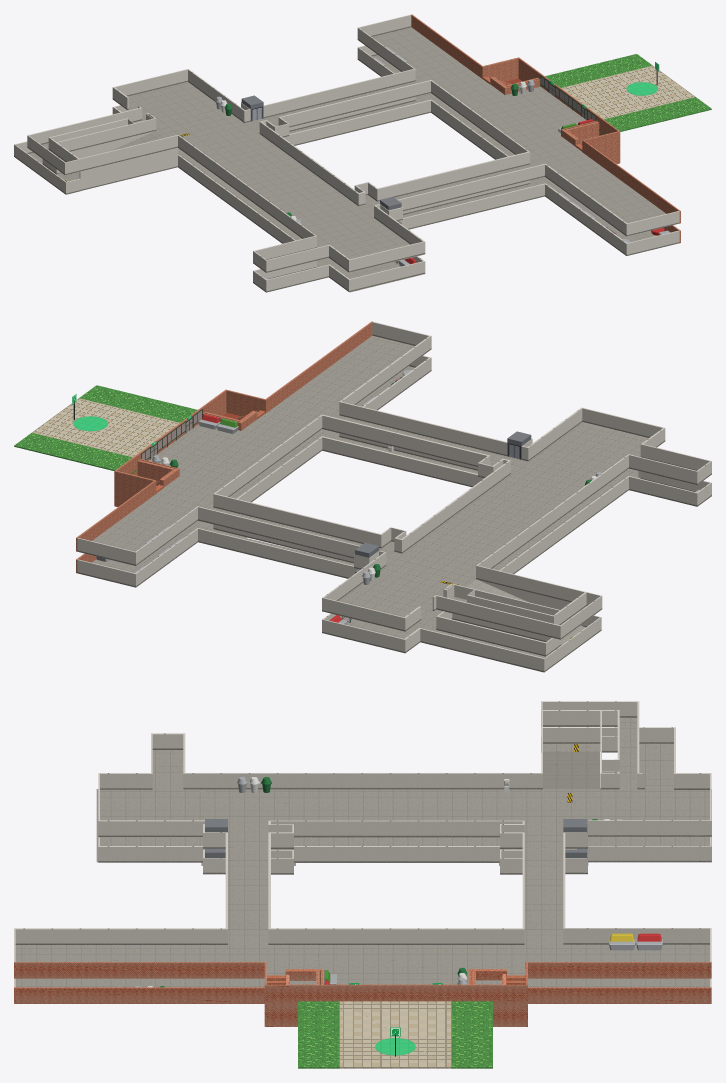
File: labs-uao.glb
The picture shows the model from 3 angles, top to bottom: view 1: azimuth 30°, elevation 25°; view 2: azimuth 150°, elevation 25°; view 3: azimuth 270°, elevation 25°; orthographic projection. The views are drawn at different scales.
Parts seen in each view (by area): view 1: pared-blanca, terrazo, ladrillo, plaza, pasto, mueble-gray, ascensor-cabina, vidrio; view 2: pared-blanca, terrazo, ladrillo, plaza, pasto, mueble-gray, ascensor-cabina; view 3: terrazo, pared-blanca, ladrillo, plaza, pasto, ascensor-cabina, mueble-gray.
Boxes of the visible parts, <box> form: pared-blanca: <box>14,14,679,292</box>; terrazo: <box>28,27,665,292</box>; ladrillo: <box>411,14,680,242</box>; plaza: <box>561,65,695,119</box>; pasto: <box>545,54,711,134</box>; mueble-gray: <box>215,46,670,279</box>; ascensor-cabina: <box>241,95,401,223</box>; vidrio: <box>540,77,595,120</box>; pared-blanca: <box>77,321,711,672</box>; terrazo: <box>92,335,648,657</box>; ladrillo: <box>76,321,372,573</box>; plaza: <box>32,398,179,457</box>; pasto: <box>14,385,197,474</box>; mueble-gray: <box>96,370,699,624</box>; ascensor-cabina: <box>355,431,531,573</box>; terrazo: <box>15,717,711,987</box>; pared-blanca: <box>14,701,711,987</box>; ladrillo: <box>14,962,711,1026</box>; plaza: <box>339,1001,451,1068</box>; pasto: <box>298,1001,492,1068</box>; ascensor-cabina: <box>205,819,586,857</box>; mueble-gray: <box>135,777,662,987</box>.
Size of the model in its own units: 89.31 by 7.37 by 75.2.
25 materials, 11 textured.
